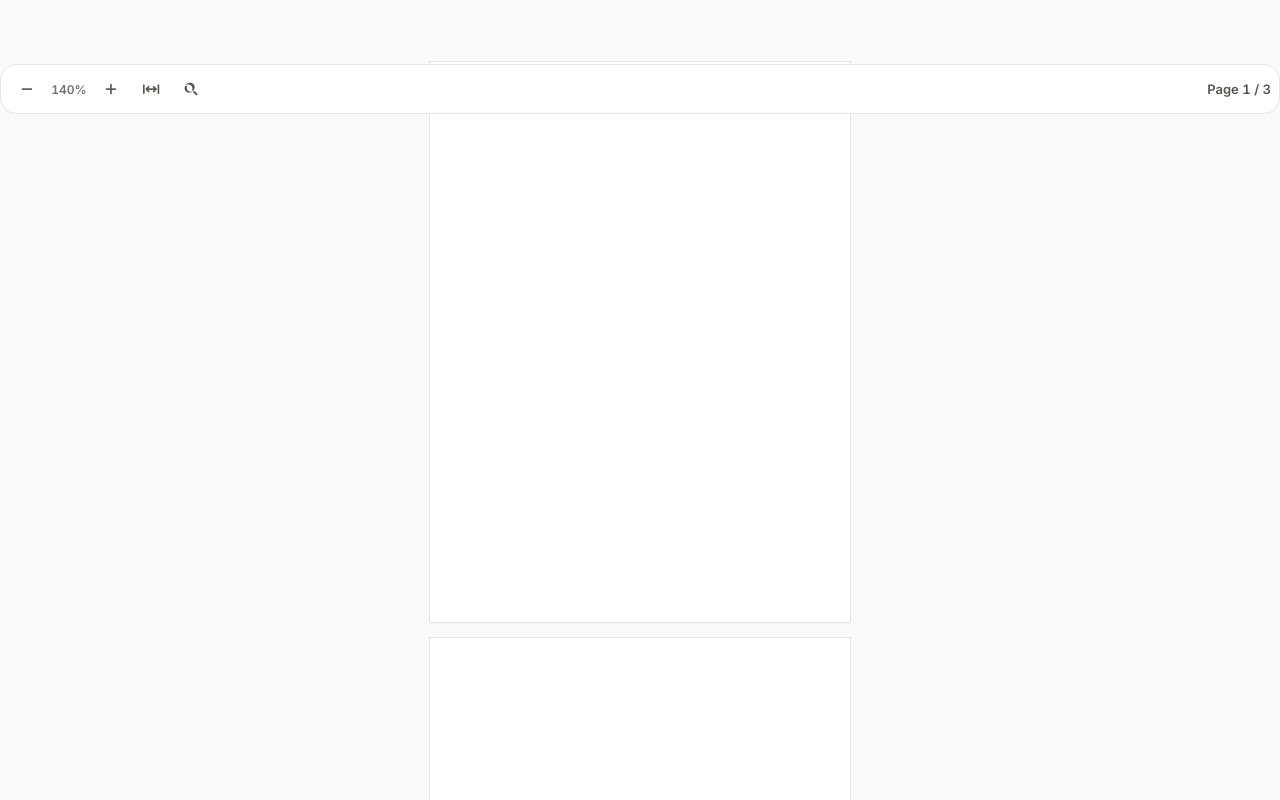
find in this paper (IR-353) › counts every match on every page, whatever its case
The width and height of the screenshot is (1280, 800).
Check: the text "Page 1 / 3" is shown, box [1207, 80, 1271, 98]
Click the button named "Find in this paper" at (191, 89), box [173, 71, 209, 107]
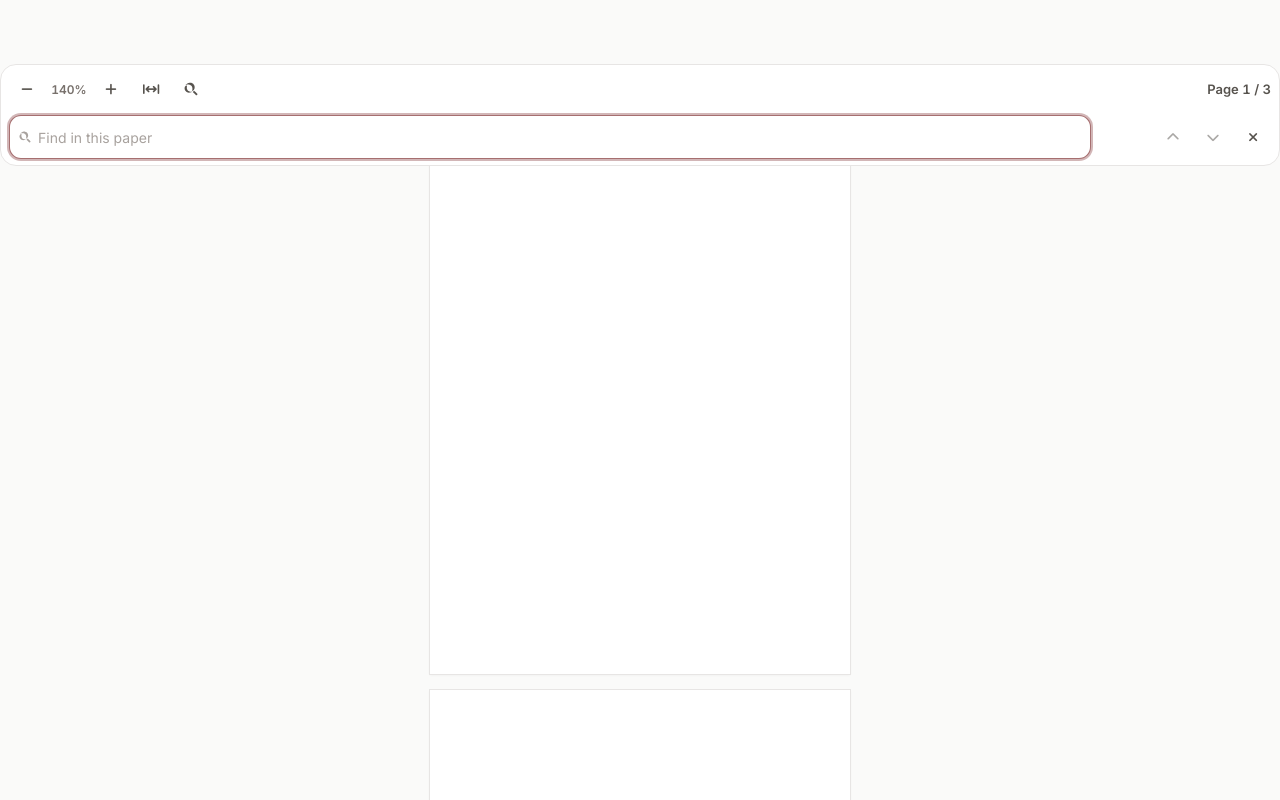
Type "robot" into the search field labelled "Find in this paper" at (550, 137), box [9, 115, 1091, 159]
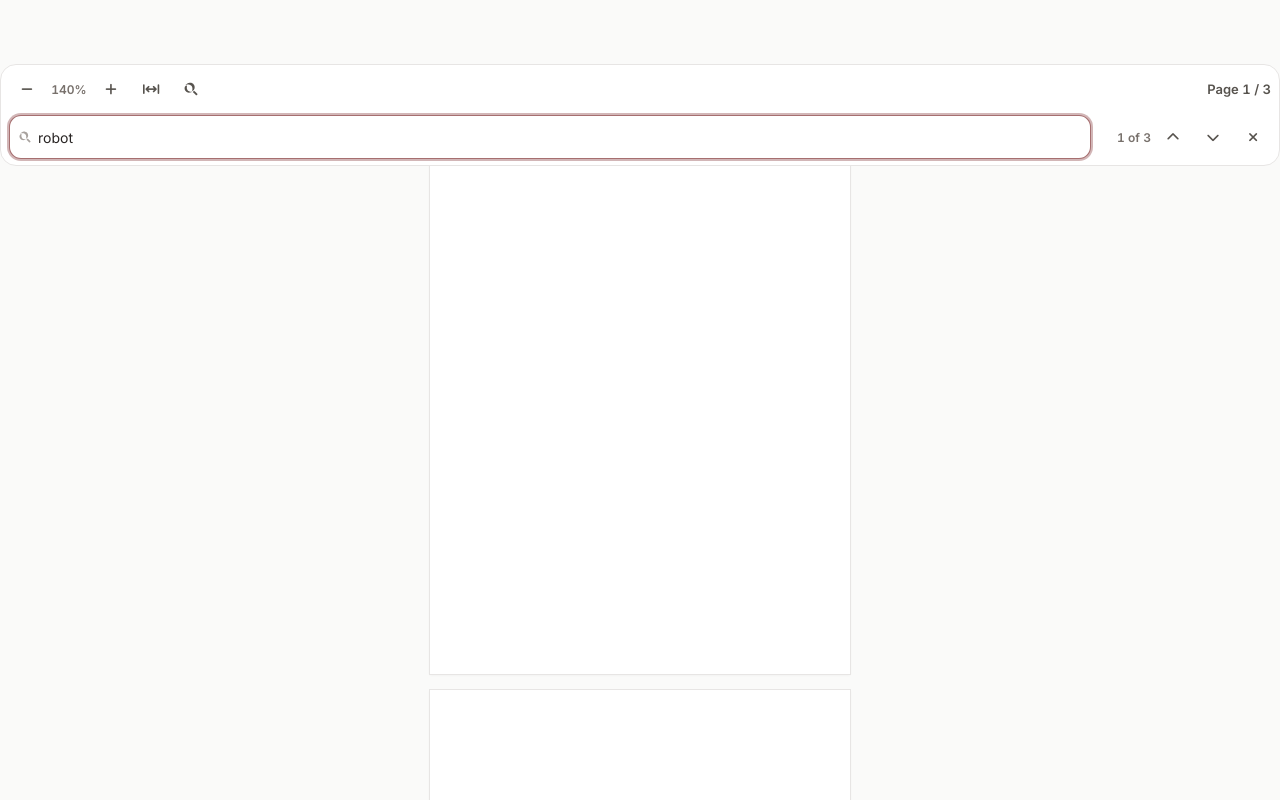
Check: the message reads "1 of 3", box [1117, 130, 1151, 144]
